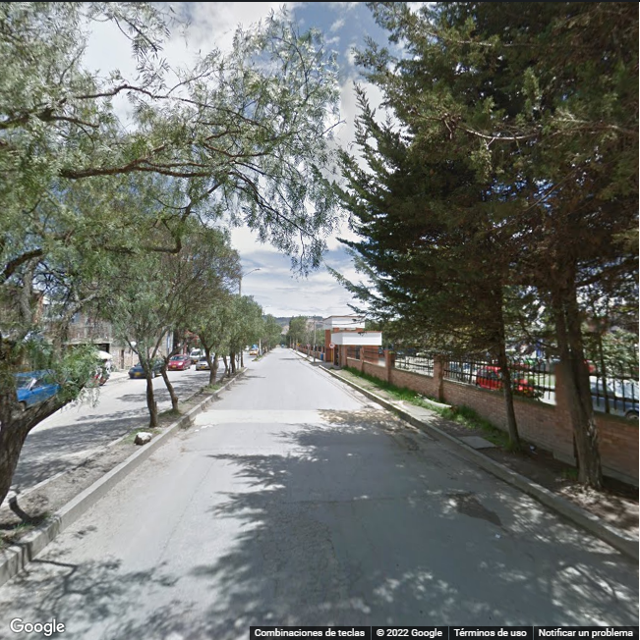D00: (153, 472, 209, 567)
D20: (257, 502, 353, 594)
